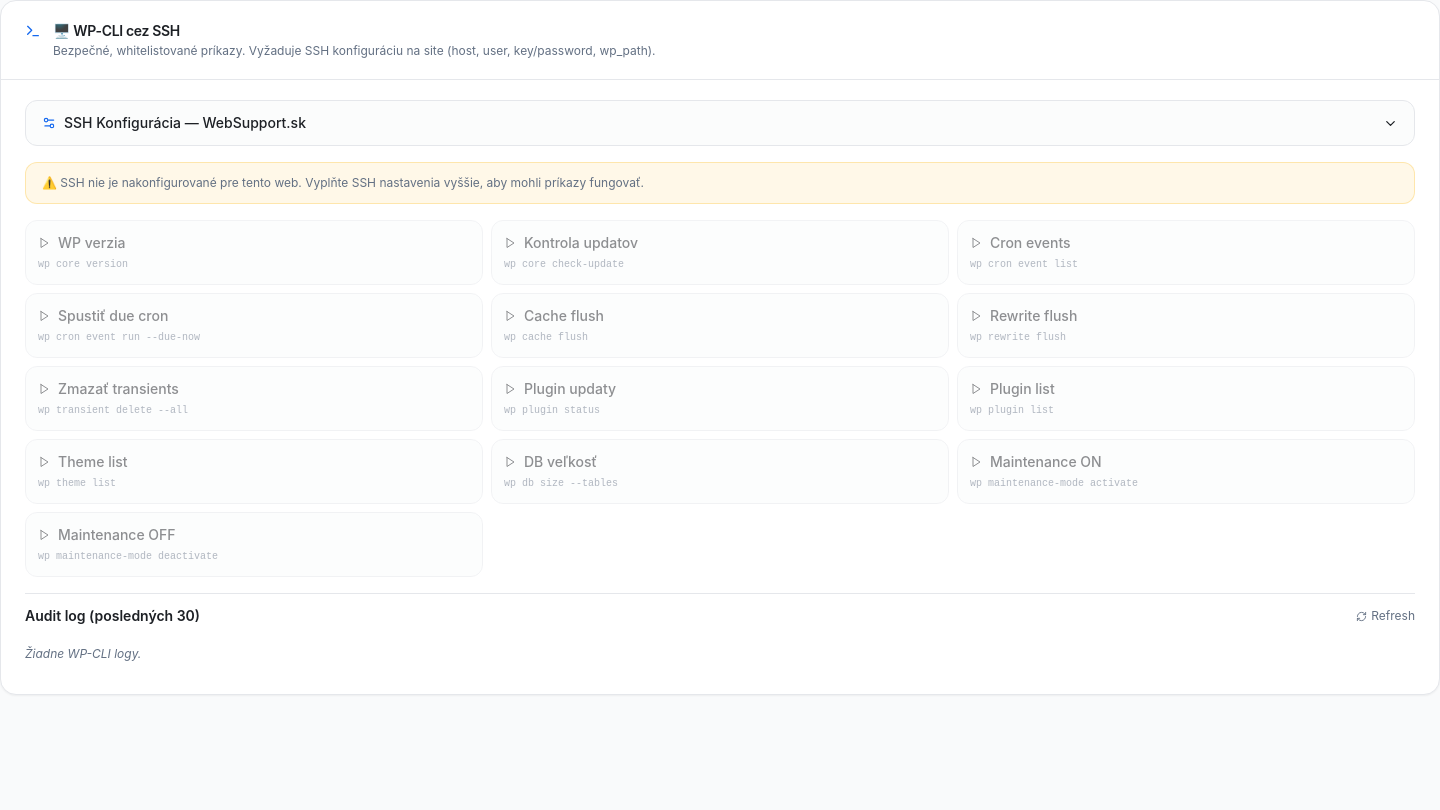
it: WPCLIManager – SSH form toggle › closes SSH form on second toggle click
Click the button "SSH Konfigurácia — WebSupport.sk" at (185, 122), box top-left (26, 101), bottom-right (1414, 145)
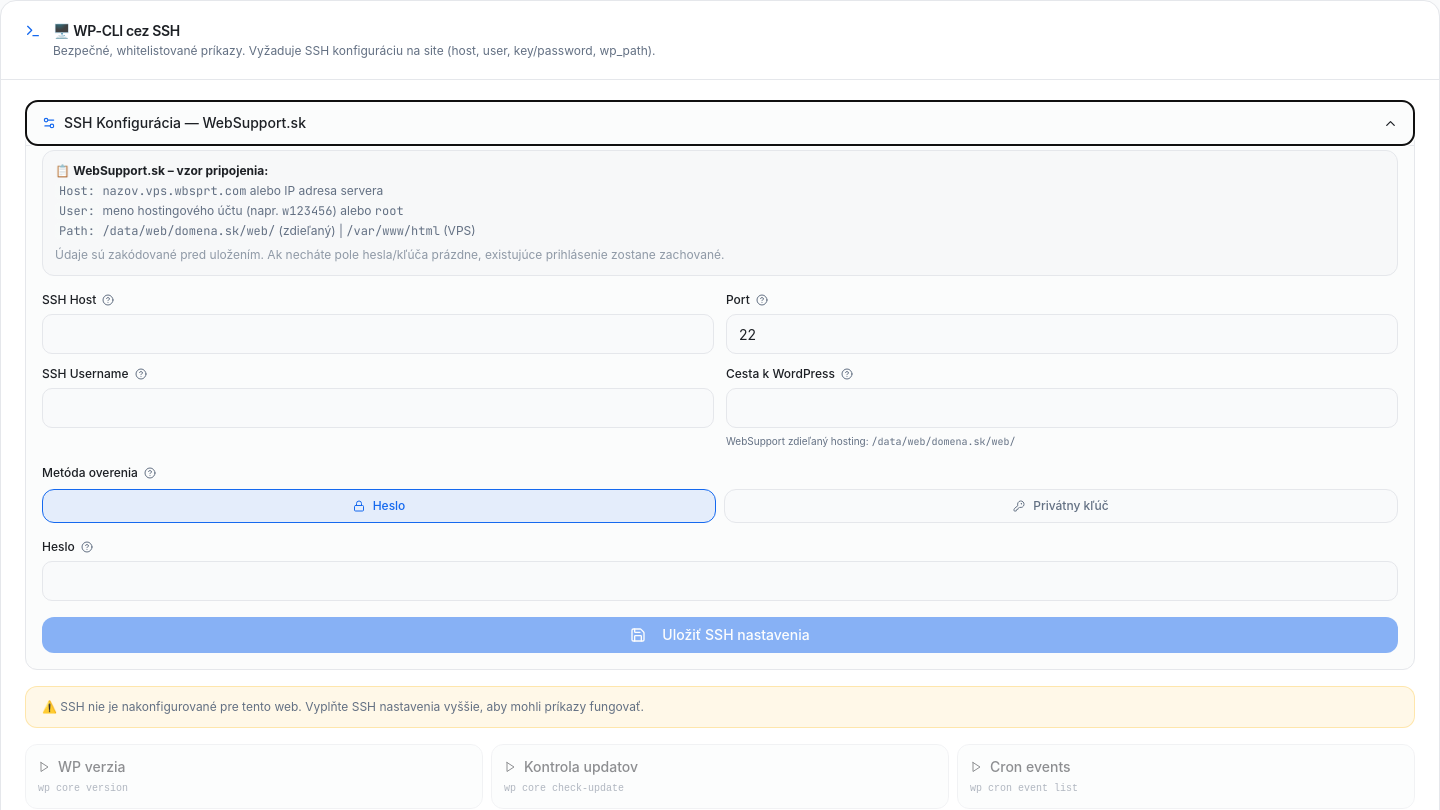
Click the button "SSH Konfigurácia — WebSupport.sk" at (185, 122), box top-left (26, 101), bottom-right (1414, 145)
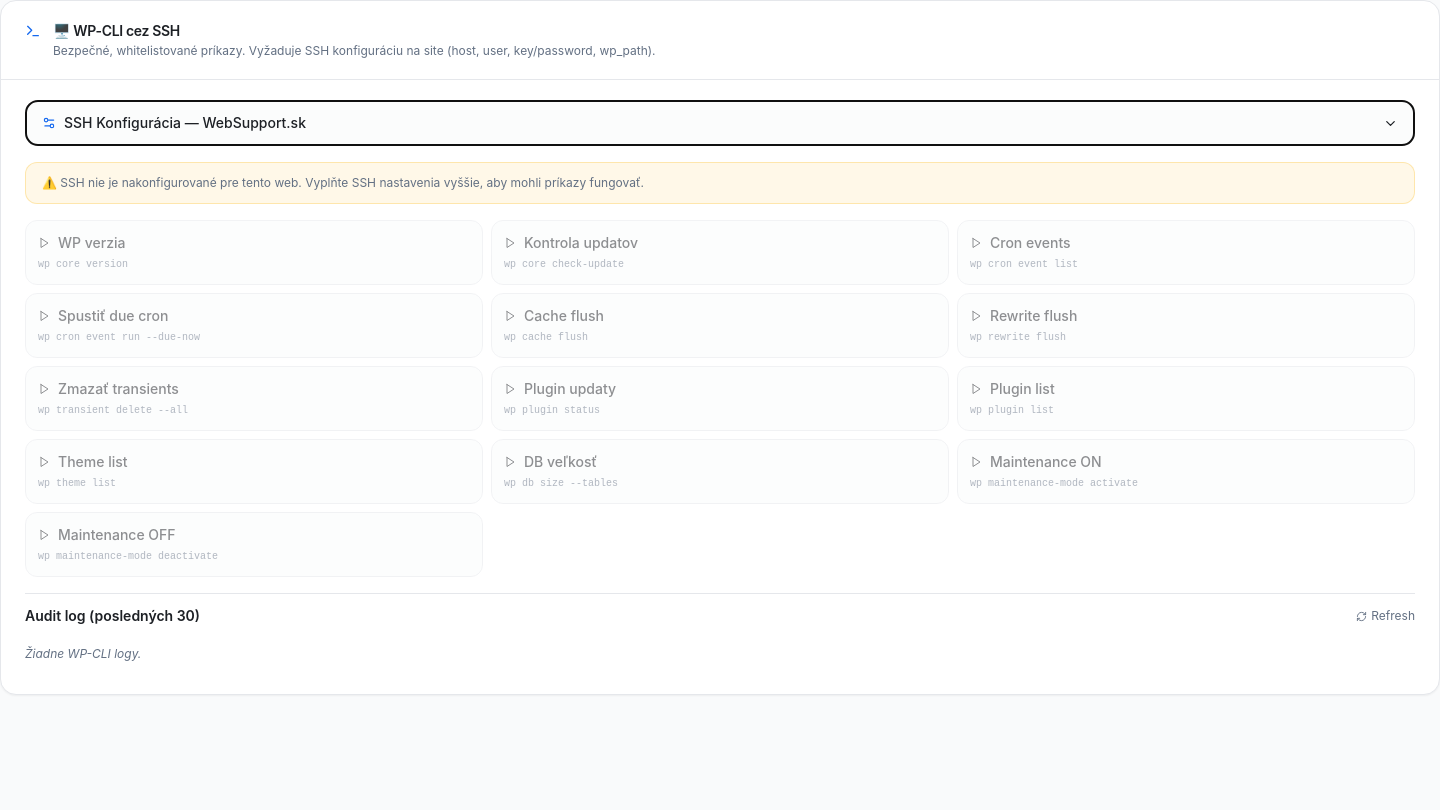
Check: the label labelled "SSH Host" is gone
